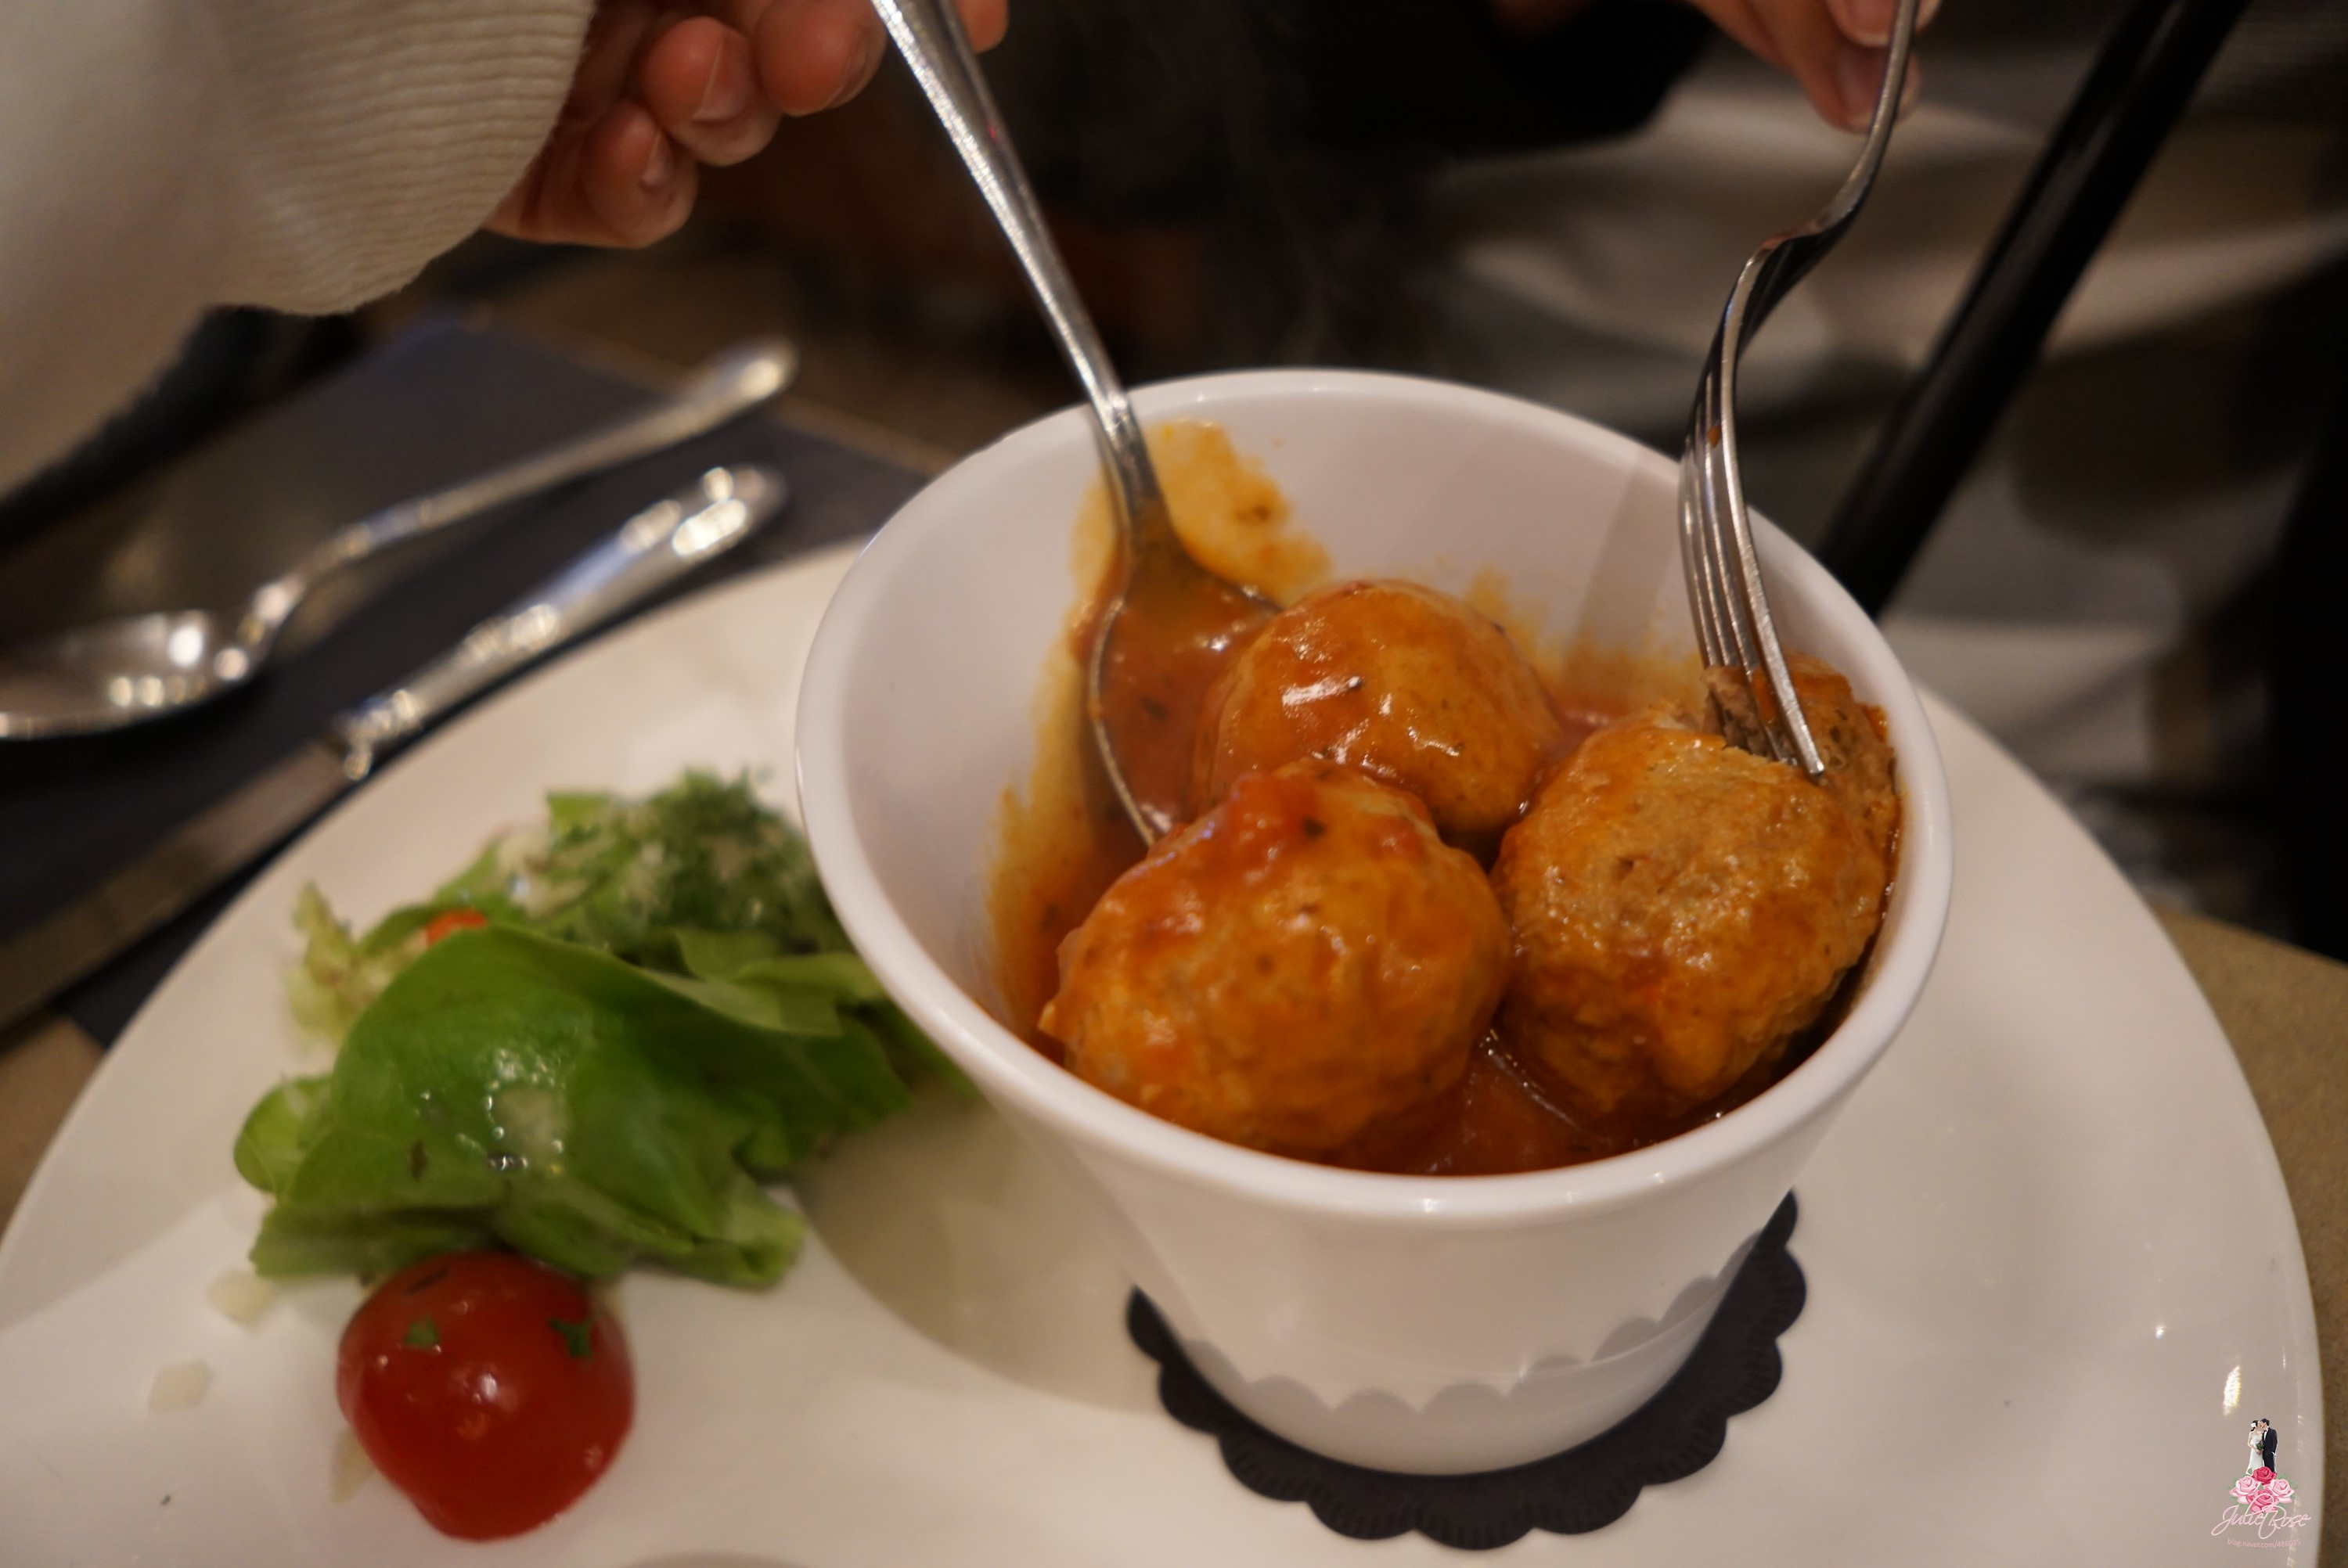chopped lettuce: (355, 850, 842, 1241)
meatballs: (1130, 626, 1769, 1029)
